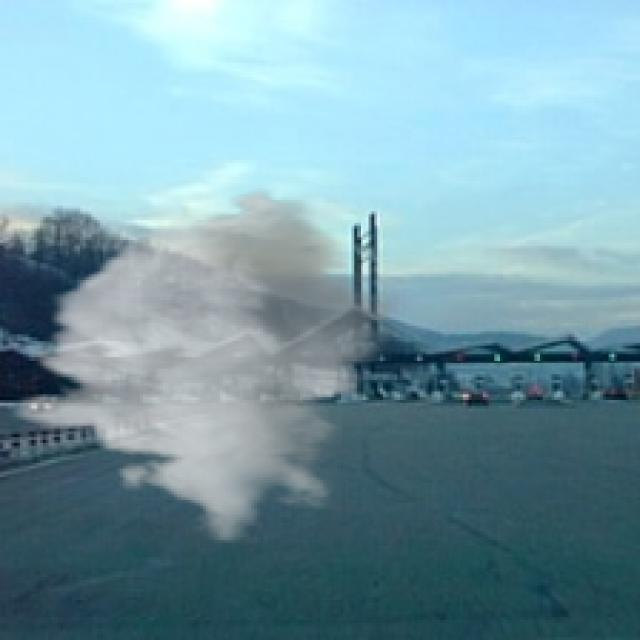smoke: (6, 188, 406, 546)
